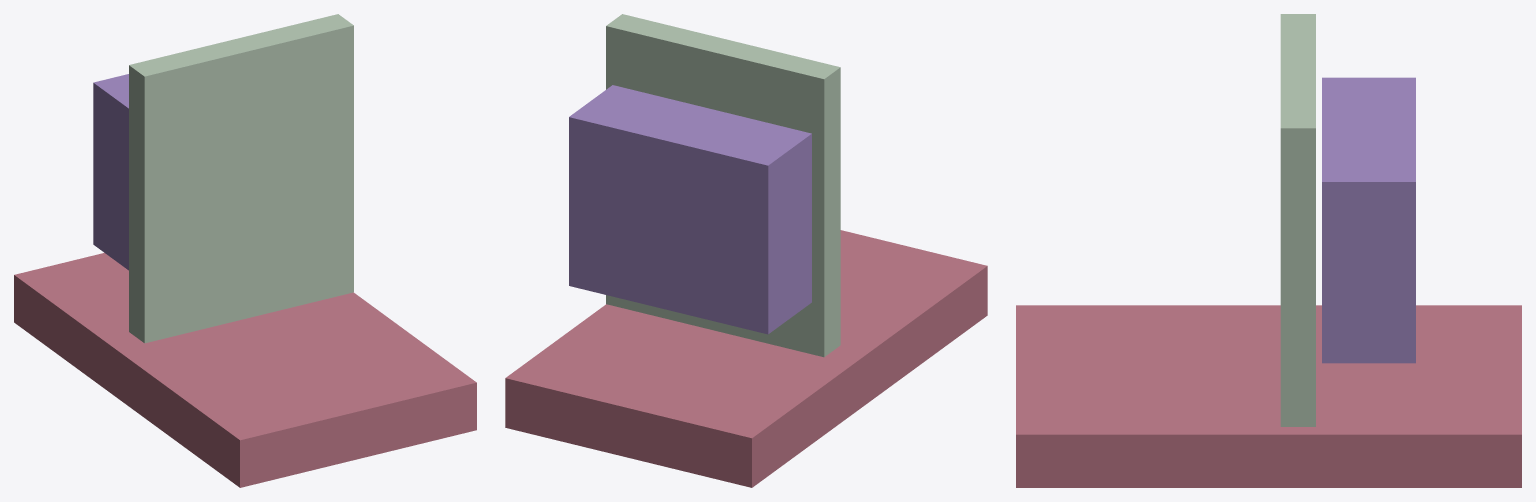
Rendered from 199513_pred.glb.
The picture shows the model from 3 angles, left to right: view 1: azimuth 30°, elevation 25°; view 2: azimuth 150°, elevation 25°; view 3: azimuth 270°, elevation 25°; orthographic projection. The views are drawn at different scales.
Parts seen in each view (by area): view 1: world; view 2: world; view 3: world.
Part boxes in pixels (bbox=[...]): world: bbox=[14, 14, 476, 487]; world: bbox=[505, 14, 987, 487]; world: bbox=[1016, 14, 1521, 487].
Size of the model in its own units: 2.6 by 3.35 by 4.3.
